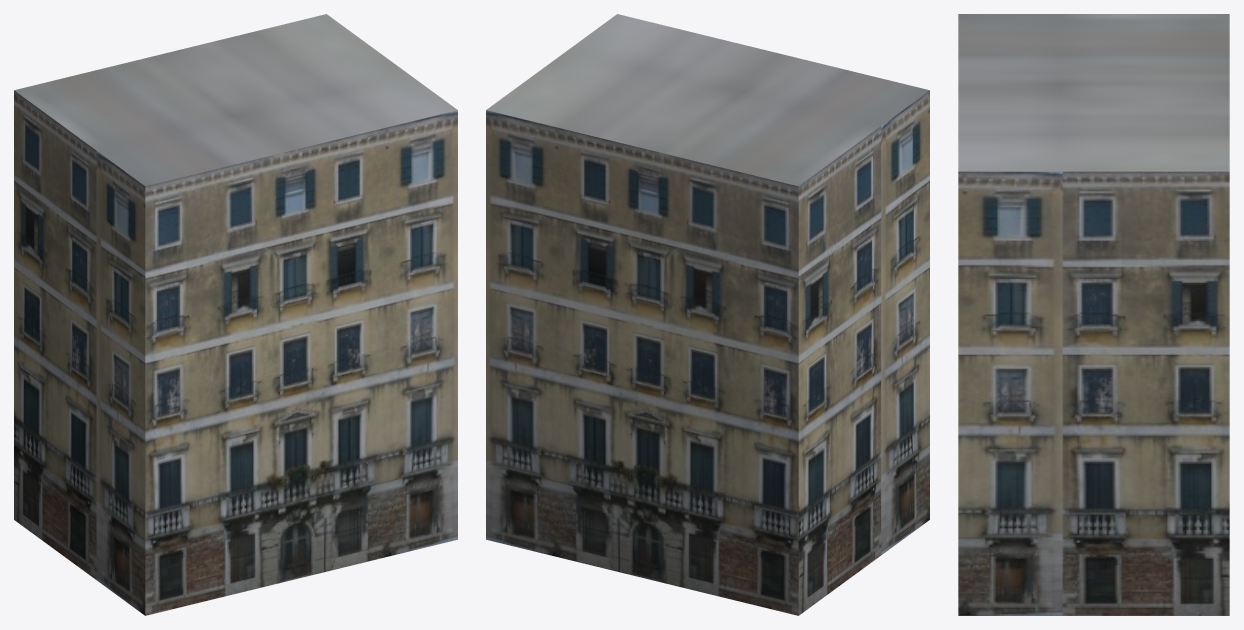
Rendered from building.house_08.glb.
The picture shows the model from 3 angles, left to right: view 1: azimuth 30°, elevation 25°; view 2: azimuth 150°, elevation 25°; view 3: azimuth 270°, elevation 25°; orthographic projection. The views are drawn at different scales.
Parts seen in each view (by area): view 1: Cube013; view 2: Cube013; view 3: Cube013.
Boxes of the visible parts, left/top/right/bottom form: Cube013: left=14, top=14, right=457, bottom=615; Cube013: left=486, top=14, right=929, bottom=615; Cube013: left=958, top=14, right=1229, bottom=615.
Bounding box in the file's own units: 8.54 × 11.21 × 6.21.
Materials: 1 (1 with a texture image).
